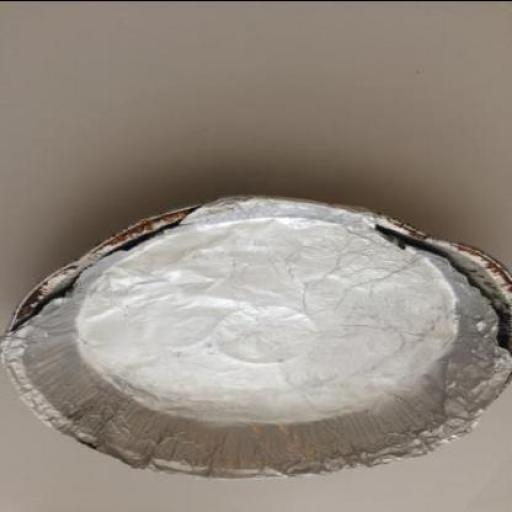metal: (0, 196, 511, 480)
